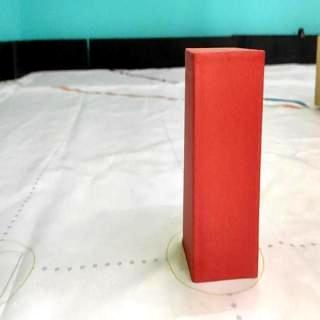redbox: (182, 45, 266, 279)
